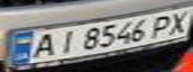4: (115, 19, 139, 46)
5: (96, 21, 121, 48)
6: (127, 16, 154, 43)
8: (78, 24, 103, 52)
A: (24, 30, 60, 61)
I: (51, 27, 81, 55)
P: (145, 12, 178, 39)
X: (163, 7, 193, 35)
